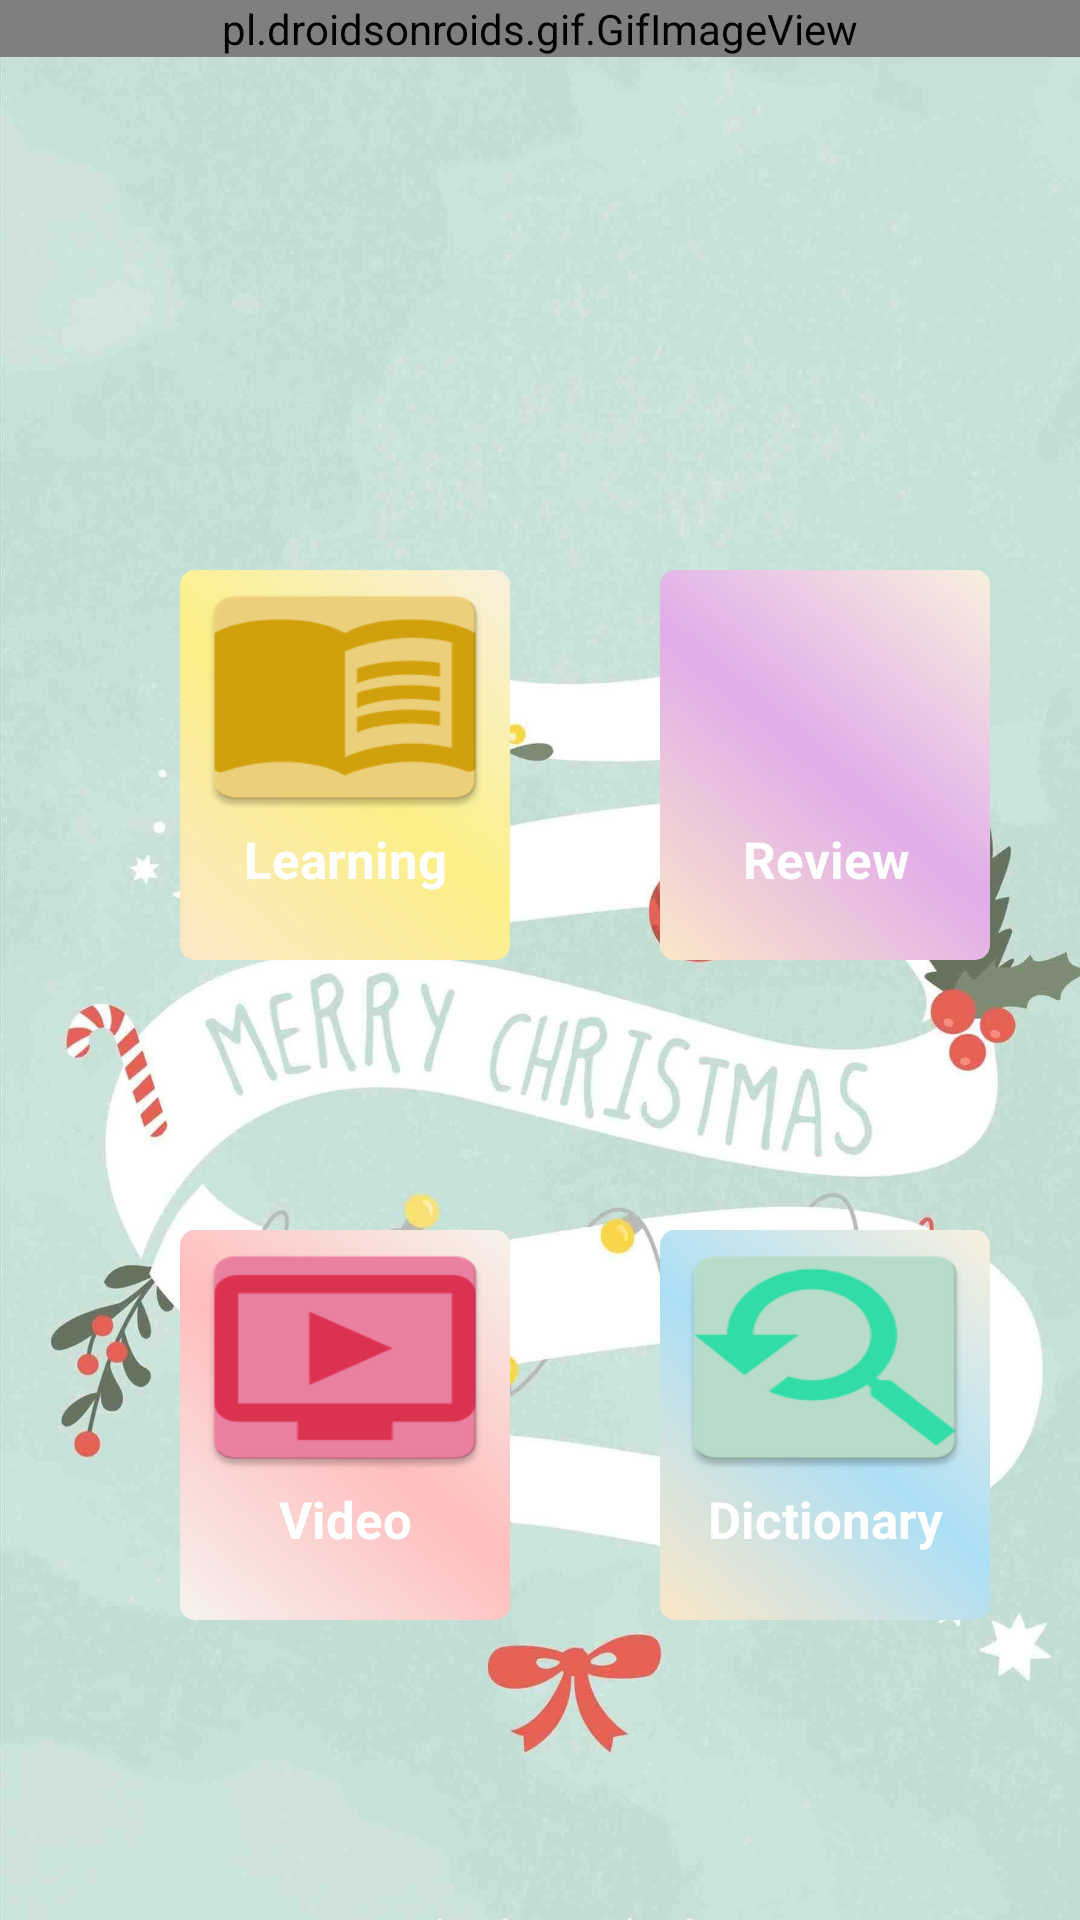

Point at icon controls on the screen. Image size 1080w x 1920h, points as (x=x, y=y).
book: (x=345, y=697)
